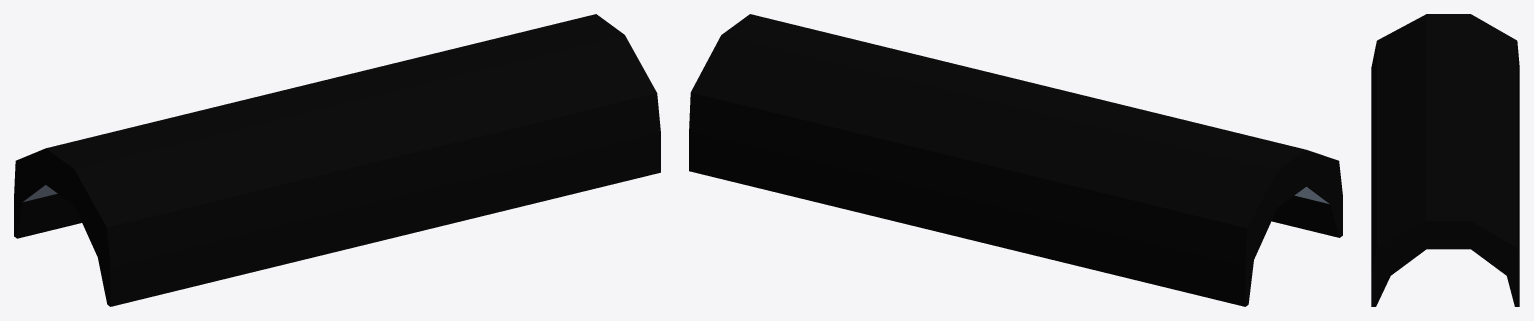
The model's file is room_ceil.fbx.
3 views of the same model, side by side, from view 1: azimuth 30°, elevation 25°; view 2: azimuth 150°, elevation 25°; view 3: azimuth 270°, elevation 25° (orthographic). The views are drawn at different scales.
Parts seen in each view (by area): view 1: room_ceill; view 2: room_ceill; view 3: room_ceill.
Boxes of the visible parts, box(x1,y1,x2,y2) form: room_ceill: box(14, 14, 660, 306); room_ceill: box(689, 14, 1342, 306); room_ceill: box(1371, 14, 1519, 306).
Size of the model in its own units: 300 by 91 by 58.
